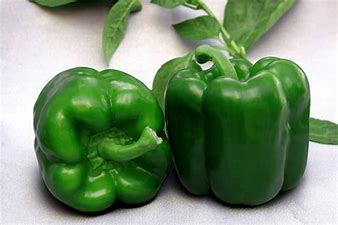fruit_pepper: (162, 43, 313, 208), (28, 64, 172, 216)
